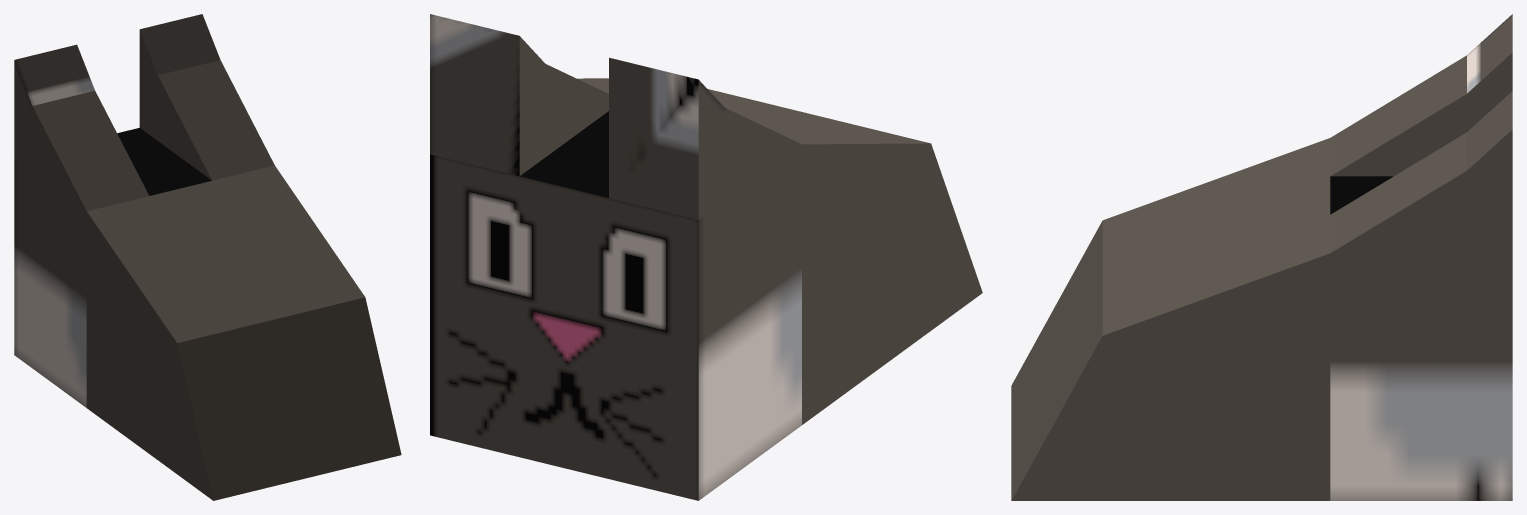
Rendered from cat_v2.obj.
3 views of the same model, side by side, from view 1: azimuth 30°, elevation 25°; view 2: azimuth 150°, elevation 25°; view 3: azimuth 270°, elevation 25° (orthographic). The views are drawn at different scales.
Visible parts, largest first — view 1: cat_v2; view 2: cat_v2; view 3: cat_v2.
Boxes of the visible parts, x1,y1,x2,y2 form: cat_v2: (14,14,401,500); cat_v2: (430,14,982,500); cat_v2: (1011,14,1512,500).
Bounding box in the file's own units: 1.5 × 2.25 × 2.75.
Materials: 1 (1 with a texture image).
